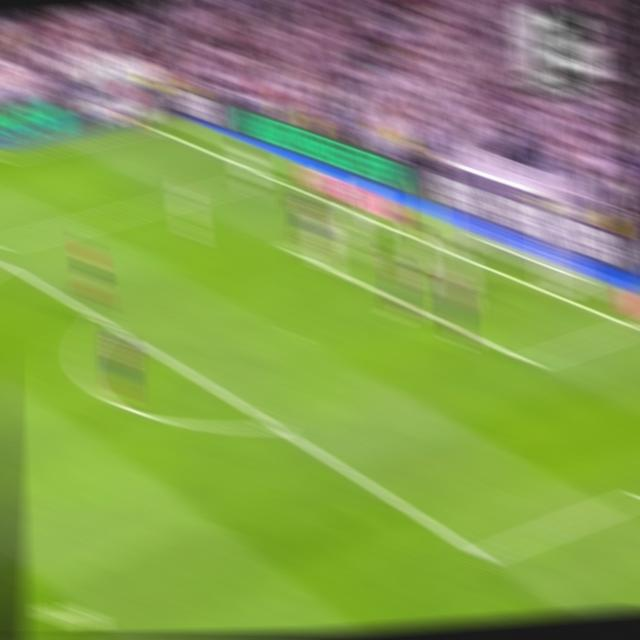bigarea_bottom_inner: (468, 537, 496, 576)
bottom_arc_area_intersection: (261, 407, 288, 443)
corner: (136, 116, 160, 134)
smallarea_bottom_inner: (519, 346, 543, 378)
smallarea_bottom_outter: (253, 164, 276, 186)
top_arc_area_intersection: (94, 309, 114, 332)
